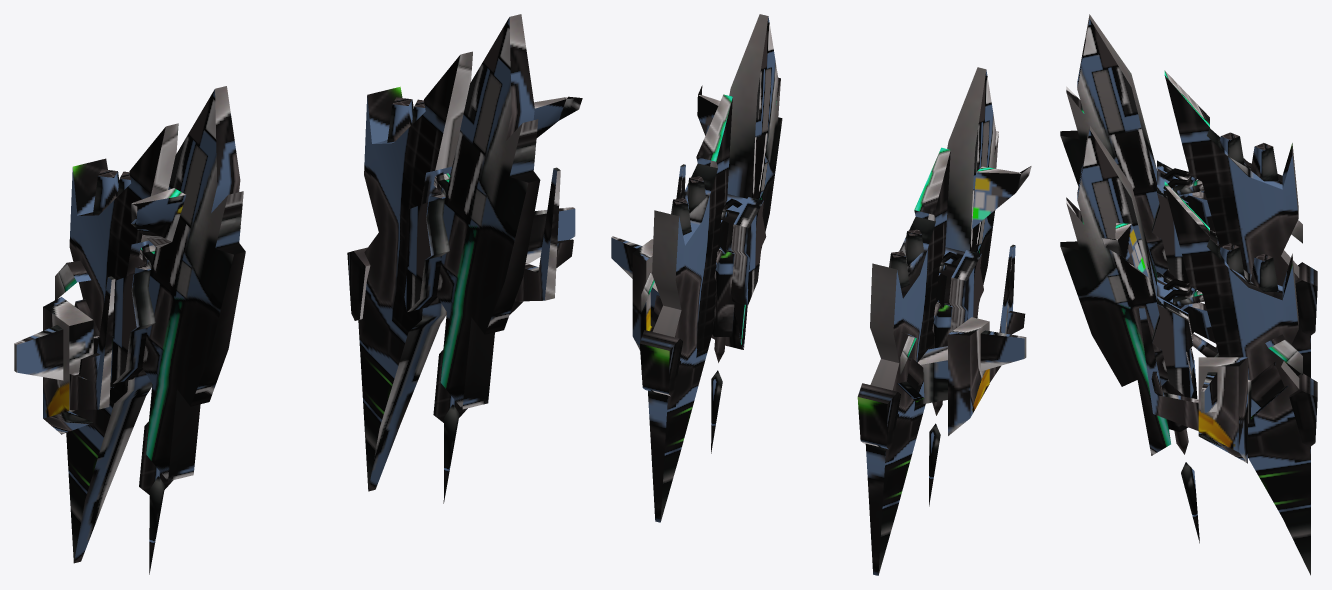
Rendered from datan_common_ss0_arm88_orns_52e955fd.obj.
3 views of the same model, side by side, from view 1: azimuth 30°, elevation 25°; view 2: azimuth 150°, elevation 25°; view 3: azimuth 270°, elevation 25° (orthographic). The views are drawn at different scales.
Visible parts, largest first — view 1: datan_common_ss0_arm88_orns_52e955fd; view 2: datan_common_ss0_arm88_orns_52e955fd; view 3: datan_common_ss0_arm88_orns_52e955fd.
Part boxes in pixels (x1,y1,x2,y2): datan_common_ss0_arm88_orns_52e955fd: (14,14,582,574); datan_common_ss0_arm88_orns_52e955fd: (611,14,1031,575); datan_common_ss0_arm88_orns_52e955fd: (1060,14,1317,575).
Size of the model in its own units: 2.22 by 2.21 by 1.15.
Materials: 1 (1 with a texture image).
